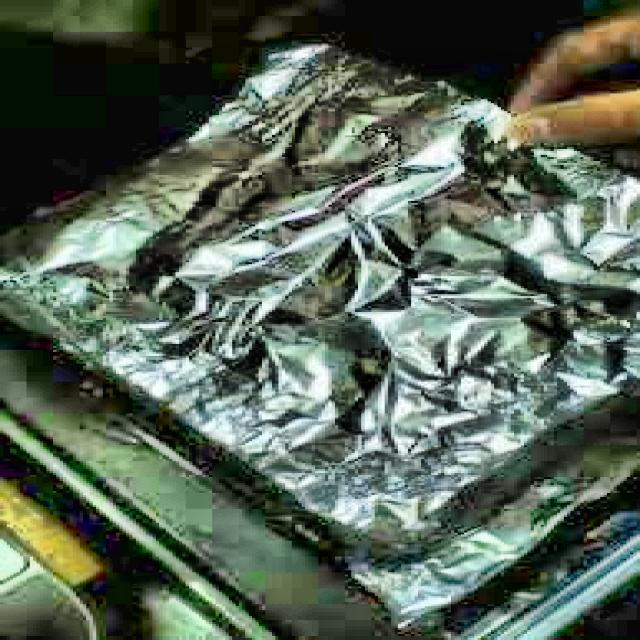Foil: (0, 37, 640, 552)
